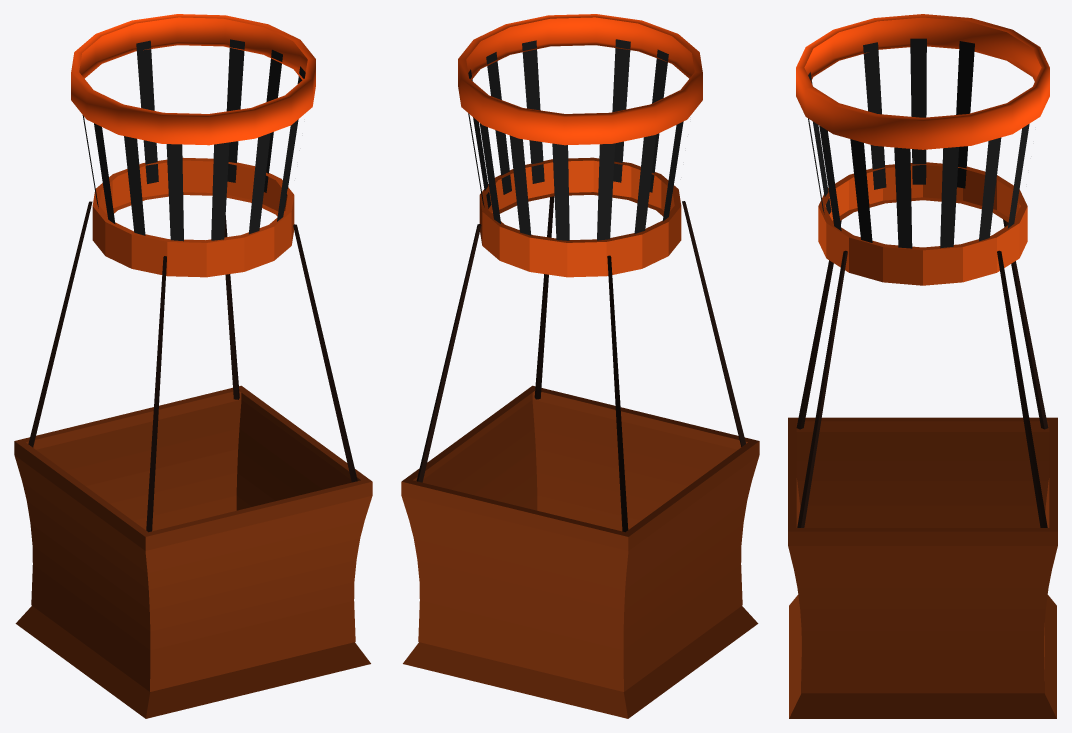
The model's file is hot_air_balloon_body.obj.
The picture shows the model from 3 angles, left to right: view 1: azimuth 30°, elevation 25°; view 2: azimuth 150°, elevation 25°; view 3: azimuth 270°, elevation 25°; orthographic projection. The views are drawn at different scales.
Parts seen in each view (by area): view 1: obj4, obj2, obj1, obj3, obj5; view 2: obj4, obj2, obj1, obj3, obj5; view 3: obj4, obj2, obj3, obj1, obj5.
Part boxes in pixels (bbox=[...]): obj4: bbox=[14, 385, 372, 718]; obj2: bbox=[71, 14, 315, 145]; obj1: bbox=[92, 157, 294, 277]; obj3: bbox=[82, 39, 305, 241]; obj5: bbox=[28, 201, 357, 532]; obj4: bbox=[401, 385, 759, 718]; obj2: bbox=[458, 14, 702, 145]; obj1: bbox=[479, 157, 681, 277]; obj3: bbox=[468, 39, 683, 240]; obj5: bbox=[416, 196, 745, 532]; obj4: bbox=[788, 417, 1057, 718]; obj2: bbox=[796, 14, 1049, 149]; obj3: bbox=[808, 38, 1029, 248]; obj1: bbox=[818, 162, 1027, 285]; obj5: bbox=[796, 219, 1048, 527].
Bounding box in the file's own units: 44.38 × 108 × 44.38.
